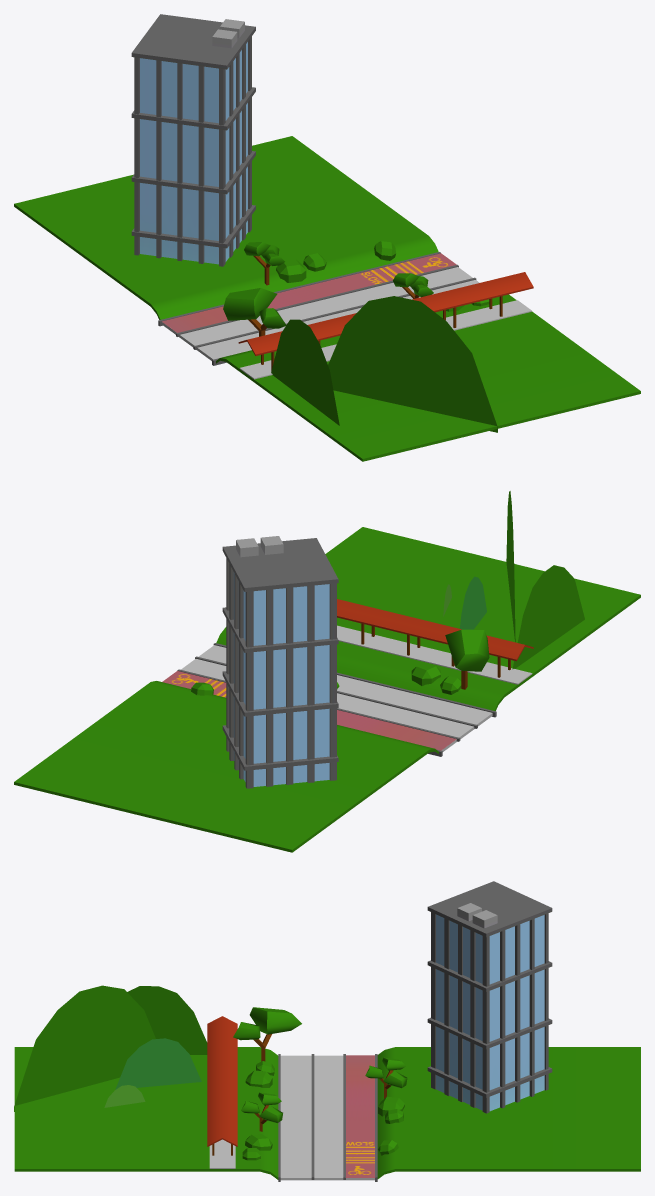
The model's file is Level 1 Chunk 5 V2.fbx.
3 views of the same model, one above another, from view 1: azimuth 30°, elevation 25°; view 2: azimuth 150°, elevation 25°; view 3: azimuth 270°, elevation 25° (orthographic). The views are drawn at different scales.
Visible parts, largest first — view 1: pCube7966, Building_A24, pCube7964, pasted__pasted__pCube5553, pCube7967, pasted__pCube5671, pCube7970, pCube7958, pCube7956, pCube7953, pCube7955, pCube7954 (+1 smaller); view 2: pCube7966, Building_A24, pCube7964, pCube7967, pasted__pCube5671, pCube7958, pCube7970, pCube7953, pCube7956, pasted__pasted__pCube5552, pasted__pasted__pCube5553, pCube7962 (+2 smaller); view 3: pCube7966, Building_A24, pCube7964, pasted__pasted__pCube5553, pCube7967, pCube7958, pCube7970, pasted__pCube5671, pasted__pasted__pCube5552, pCube7956, pCube7954, pCube7955 (+3 smaller).
Boxes of the visible parts, x1,y1,x2,y2 form: pCube7966: (14, 136, 438, 319); Building_A24: (131, 14, 255, 266); pCube7964: (216, 294, 640, 461); pasted__pasted__pCube5553: (328, 296, 497, 432); pCube7967: (162, 267, 479, 360); pasted__pCube5671: (271, 319, 339, 425); pCube7970: (162, 253, 456, 332); pCube7958: (238, 272, 533, 355); pCube7956: (223, 288, 286, 336); pCube7953: (239, 300, 531, 379); pCube7955: (244, 242, 284, 285); pCube7954: (393, 273, 433, 298); pCube7966: (14, 681, 438, 852); Building_A24: (222, 536, 338, 788); pCube7964: (216, 527, 640, 711); pCube7967: (181, 645, 492, 751); pasted__pCube5671: (512, 565, 584, 669); pCube7958: (337, 599, 533, 661); pCube7970: (162, 671, 456, 750); pCube7953: (337, 625, 532, 684); pCube7956: (445, 629, 489, 689); pasted__pasted__pCube5552: (459, 576, 486, 629); pasted__pasted__pCube5553: (506, 491, 515, 642); pCube7962: (213, 643, 496, 717); pCube7966: (377, 1047, 640, 1178); Building_A24: (427, 881, 552, 1113); pCube7964: (14, 1047, 278, 1179); pasted__pasted__pCube5553: (14, 985, 155, 1111); pCube7967: (280, 1055, 374, 1180); pCube7958: (207, 1016, 237, 1146); pCube7970: (345, 1055, 375, 1177); pasted__pCube5671: (127, 986, 207, 1054); pasted__pasted__pCube5552: (115, 1038, 201, 1089); pCube7956: (233, 1007, 301, 1061); pCube7954: (241, 1092, 282, 1131); pCube7955: (365, 1057, 407, 1098).
Size of the model in its own units: 12.39 by 9.45 by 26.58.
Materials: 3 (3 with a texture image).
